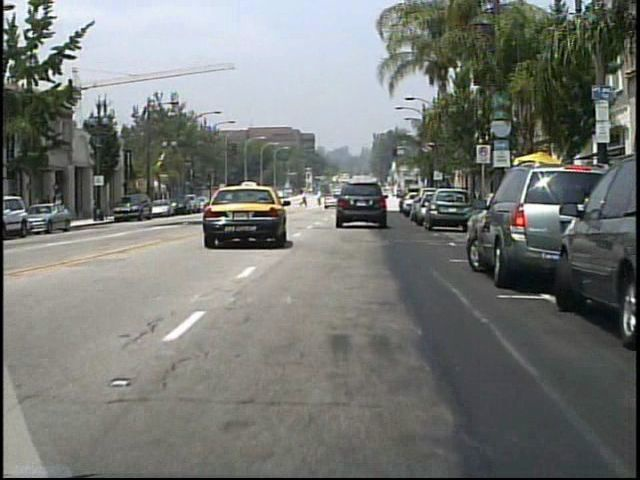person: (42, 192, 56, 225), (55, 193, 67, 223), (316, 189, 324, 208), (300, 191, 308, 209)
